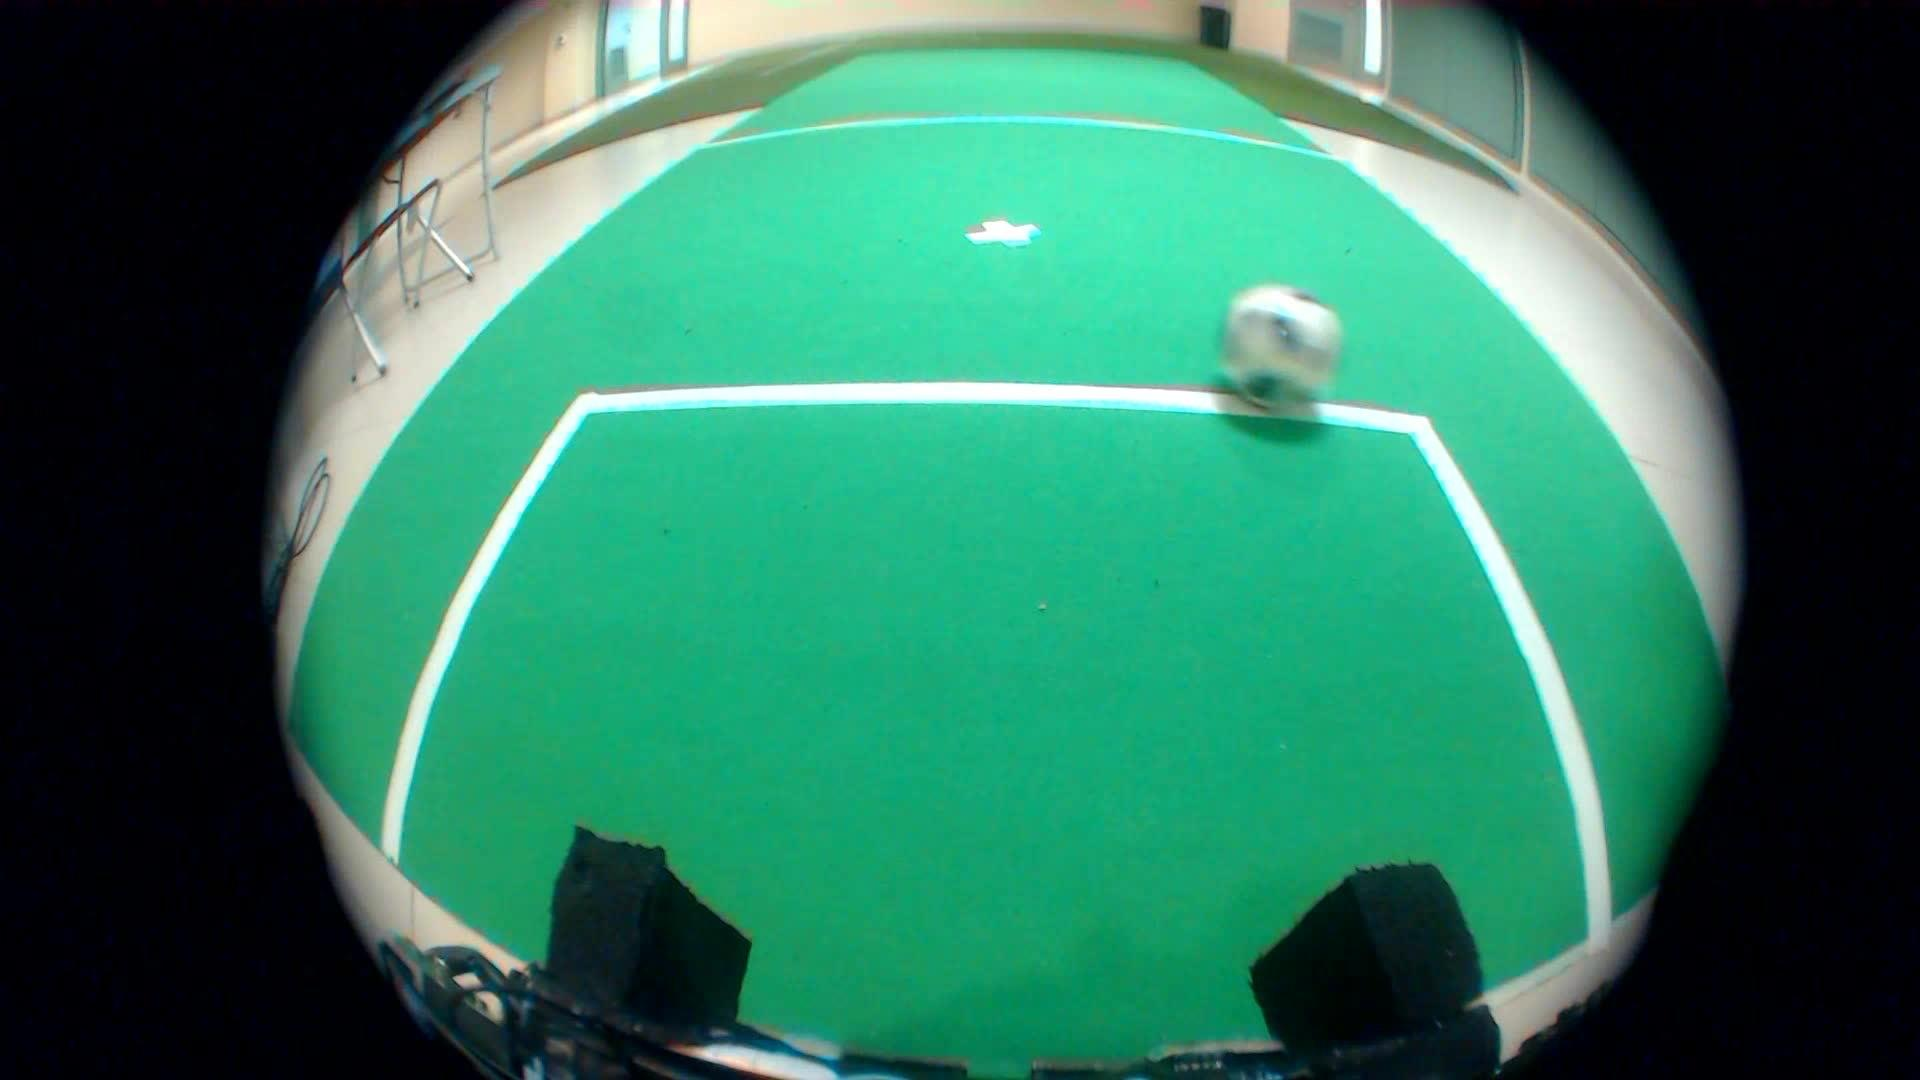ball: (1188, 269, 1358, 430)
